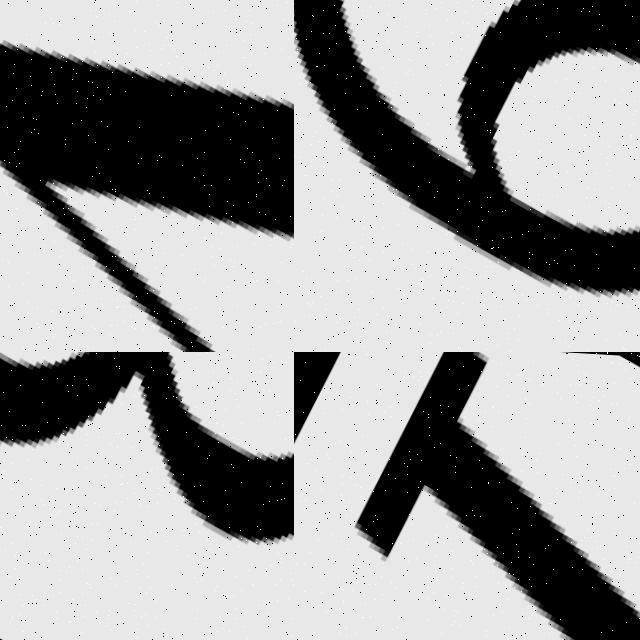3: (0, 352, 294, 618)
9: (294, 0, 640, 352)
R: (294, 352, 640, 640)
V: (0, 0, 294, 352)
